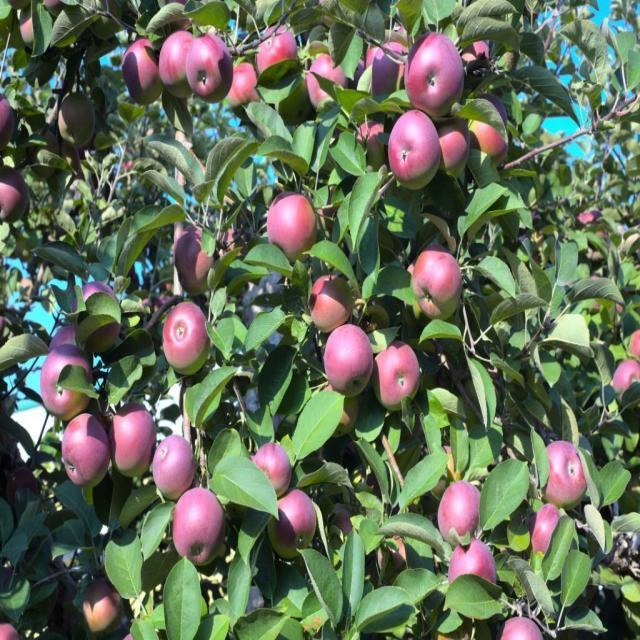Red Apple: (405, 38, 467, 110), (391, 111, 440, 184), (178, 489, 223, 563), (270, 488, 318, 557), (548, 442, 593, 510), (418, 243, 461, 313), (374, 344, 419, 409), (63, 421, 111, 481), (168, 304, 212, 368), (115, 407, 157, 473), (327, 330, 372, 391), (449, 543, 494, 601), (276, 190, 319, 250), (47, 346, 90, 405), (442, 485, 483, 546), (187, 35, 228, 95), (162, 35, 201, 96), (154, 433, 195, 490), (313, 274, 353, 327), (54, 95, 93, 146), (176, 234, 216, 283), (122, 46, 158, 99), (439, 119, 472, 175), (475, 100, 508, 156), (88, 587, 126, 635), (368, 43, 405, 90), (79, 285, 112, 337), (256, 443, 291, 490), (534, 506, 564, 557), (461, 39, 492, 87), (312, 62, 345, 104), (383, 537, 415, 578), (1, 170, 27, 220), (262, 30, 290, 71), (361, 121, 390, 160), (232, 61, 259, 100), (500, 616, 543, 640), (615, 361, 640, 393), (580, 211, 607, 240), (21, 11, 43, 45), (52, 328, 80, 354), (1, 99, 14, 141), (627, 327, 640, 362), (1, 622, 17, 640), (45, 1, 62, 17)
